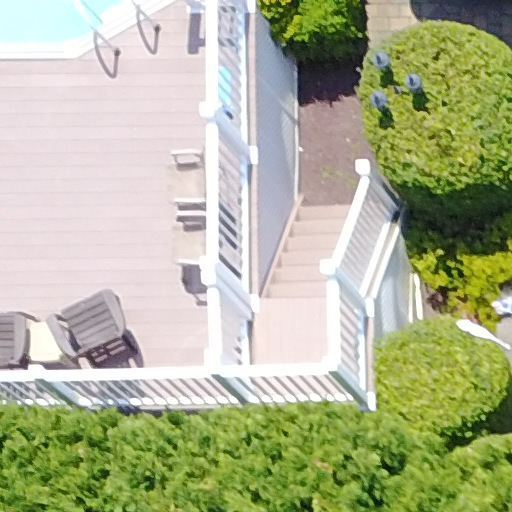porch: (1, 2, 453, 478)
